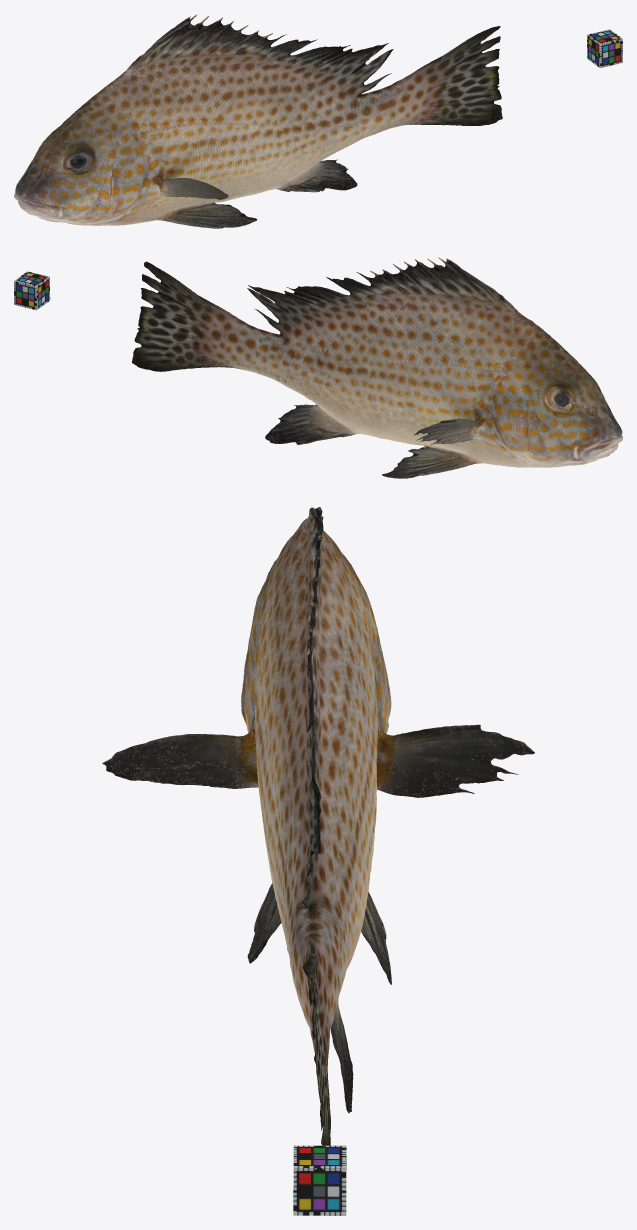
The model's file is cc0___painted_sweetlips_d._pictum_pictum.glb.
The picture shows the model from 3 angles, top to bottom: view 1: azimuth 30°, elevation 25°; view 2: azimuth 150°, elevation 25°; view 3: azimuth 270°, elevation 25°; orthographic projection. The views are drawn at different scales.
Visible parts, largest first — view 1: QS1470-W09-1-1_1, Cube_0; view 2: QS1470-W09-1-1_1, Cube_0; view 3: QS1470-W09-1-1_1, Cube_0.
Part boxes in pixels (x1,y1,x2,y2): QS1470-W09-1-1_1: (14,14,502,228); Cube_0: (587,29,622,68); QS1470-W09-1-1_1: (132,257,622,478); Cube_0: (14,271,50,310); QS1470-W09-1-1_1: (102,507,534,1145); Cube_0: (293,1145,346,1215).
Size of the model in its own units: 0.2547 by 0.0891 by 0.0796.
Materials: 2 (2 with a texture image).
